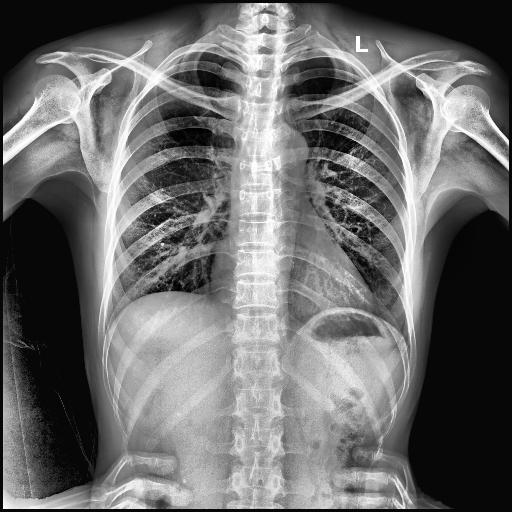0- Aortic enlargement: (259, 122, 310, 184), (268, 126, 308, 167)
3- Cardiomegaly: (204, 243, 372, 327), (210, 254, 376, 320), (208, 256, 374, 320)
